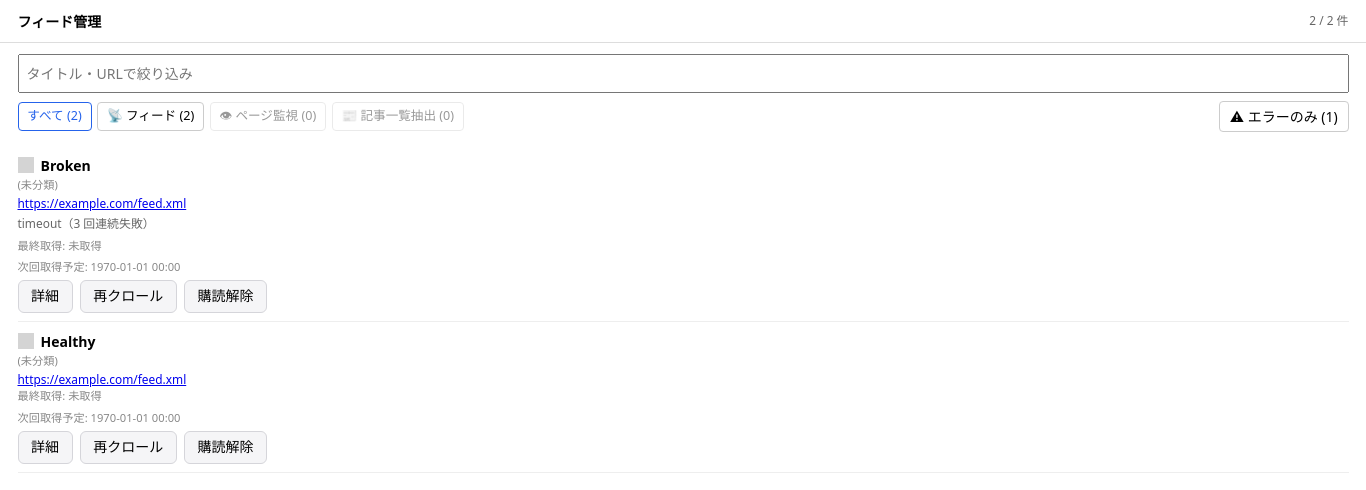
Test case: FeedManagerPane error view › narrows to only erroring feeds and reveals the extra filters
The width and height of the screenshot is (1366, 490).
What coordinates should you click on to do the following:
click the button "⚠ エラーのみ (1)"
I would click on:
 (1284, 117)
Its box is [1219, 101, 1348, 132].
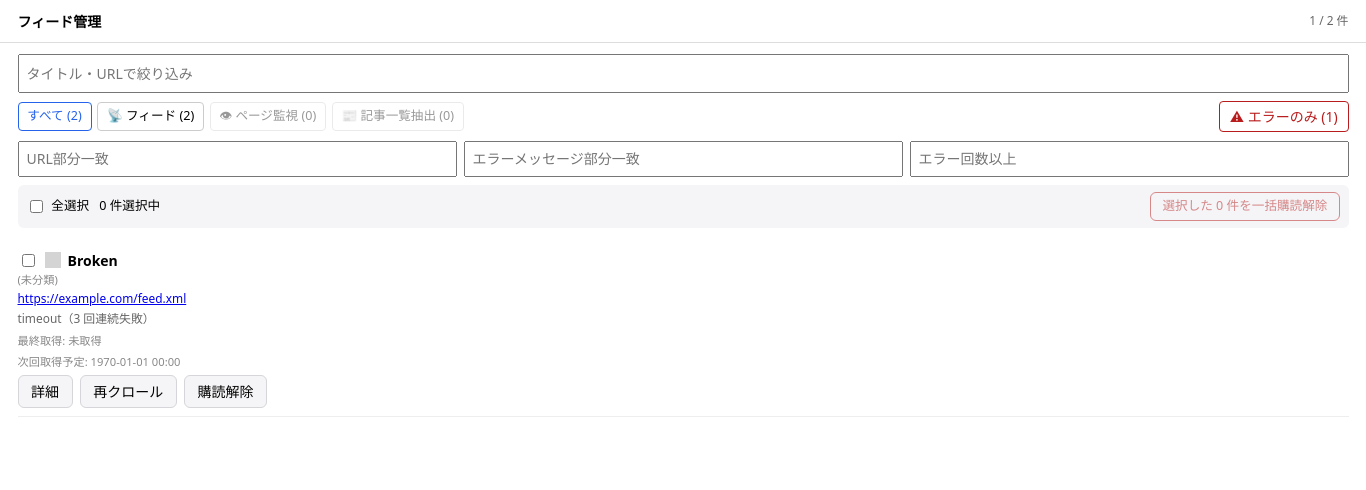
expect the text "Broken" is shown: met, box [68, 251, 118, 270]
expect the number of list items is 1: met, box [18, 242, 1348, 418]
expect the field with placeholder "URL部分一致" is shown: met, box [18, 141, 456, 177]
